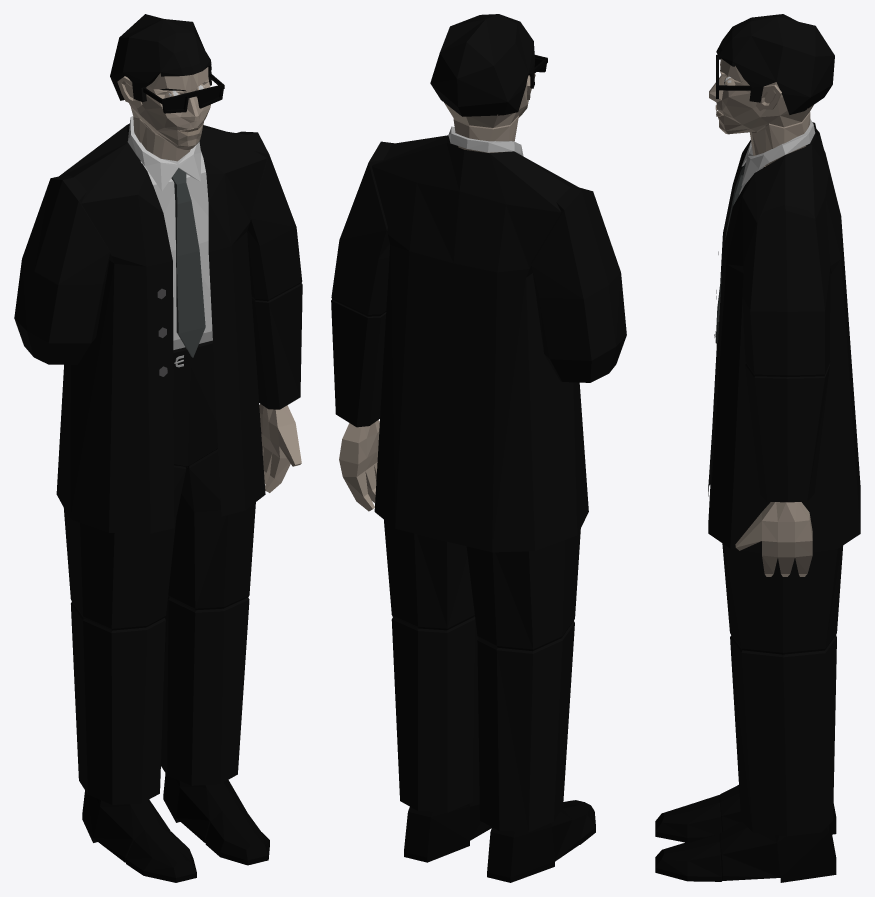
The model's file is humanMocap.dae.
The picture shows the model from 3 angles, left to right: view 1: azimuth 30°, elevation 25°; view 2: azimuth 150°, elevation 25°; view 3: azimuth 270°, elevation 25°; orthographic projection. The views are drawn at different scales.
Visible parts, largest first — view 1: UpperBody, RKnee, LKnee, RUpperArm, RThigh, LThigh, LUpperArm, vthair, LForeArm, vtshirt, Pelvis, vttie (+8 smaller); view 2: UpperBody, RKnee, LKnee, RUpperArm, RThigh, vthair, LThigh, LUpperArm, LForeArm, RFoot, LFoot, LHand (+4 smaller); view 3: UpperBody, LKnee, LUpperArm, LThigh, LForeArm, vthair, LFoot, LHand, Head, LToe, RToe, Neck (+3 smaller).
Boxes of the visible parts, x1=… form: UpperBody: x1=56, y1=123, x2=266, y2=533; RKnee: x1=71, y1=602, x2=165, y2=804; LKnee: x1=161, y1=596, x2=249, y2=785; RUpperArm: x1=14, y1=175, x2=110, y2=364; RThigh: x1=64, y1=465, x2=186, y2=630; LThigh: x1=168, y1=449, x2=255, y2=610; LUpperArm: x1=236, y1=131, x2=302, y2=301; vthair: x1=110, y1=14, x2=211, y2=102; LForeArm: x1=251, y1=283, x2=302, y2=409; vtshirt: x1=127, y1=116, x2=212, y2=349; Pelvis: x1=173, y1=340, x2=217, y2=467; vttie: x1=171, y1=168, x2=205, y2=357; UpperBody: x1=372, y1=135, x2=588, y2=552; RKnee: x1=477, y1=621, x2=574, y2=832; LKnee: x1=391, y1=616, x2=479, y2=812; RUpperArm: x1=531, y1=186, x2=626, y2=382; RThigh: x1=466, y1=528, x2=580, y2=651; vthair: x1=430, y1=14, x2=534, y2=116; LThigh: x1=384, y1=520, x2=474, y2=630; LUpperArm: x1=331, y1=141, x2=393, y2=316; LForeArm: x1=331, y1=299, x2=386, y2=427; RFoot: x1=487, y1=808, x2=579, y2=882; LFoot: x1=404, y1=791, x2=491, y2=862; LHand: x1=339, y1=420, x2=379, y2=511; UpperBody: x1=708, y1=126, x2=860, y2=553; LKnee: x1=730, y1=635, x2=836, y2=835; LUpperArm: x1=742, y1=205, x2=830, y2=376; LThigh: x1=722, y1=543, x2=843, y2=654; LForeArm: x1=745, y1=363, x2=829, y2=502; vthair: x1=716, y1=14, x2=834, y2=114; LFoot: x1=719, y1=822, x2=836, y2=882; LHand: x1=735, y1=502, x2=812, y2=576; Head: x1=709, y1=58, x2=813, y2=134; LToe: x1=655, y1=834, x2=722, y2=881; RToe: x1=655, y1=795, x2=721, y2=842; Neck: x1=750, y1=112, x2=810, y2=166.
Size of the model in its own units: 0.587 by 0.3785 by 1.7.
